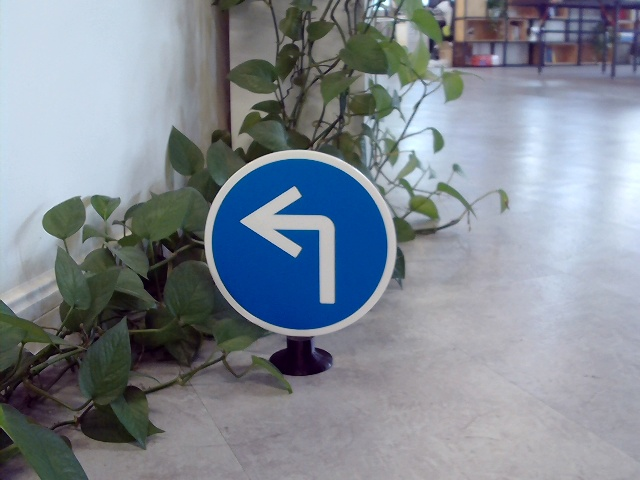turn_left: (239, 181, 349, 306)
